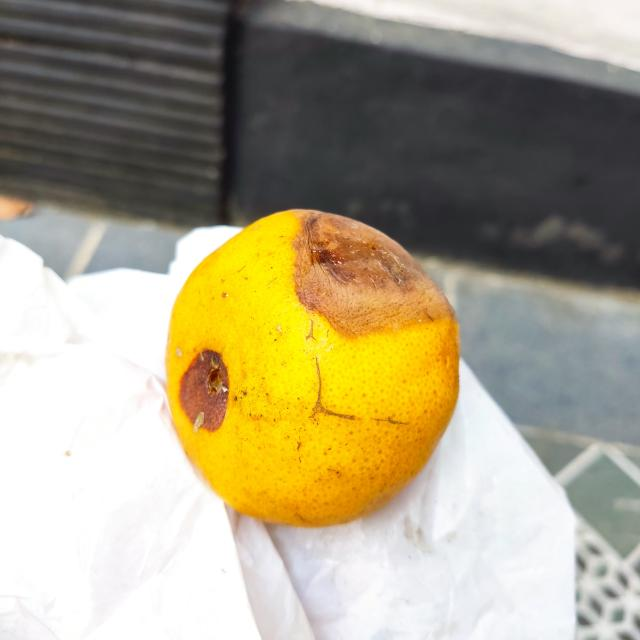orange: (166, 205, 462, 527)
